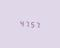five: (28, 19, 32, 28)
four: (18, 19, 22, 27)
seven: (23, 19, 27, 27), (33, 20, 37, 28)
